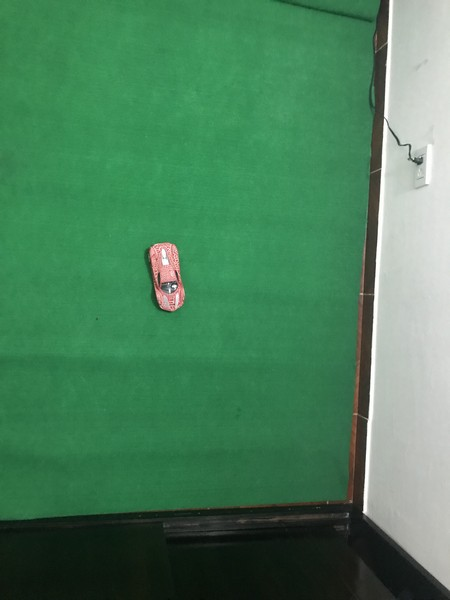RC: (143, 242, 189, 314)
